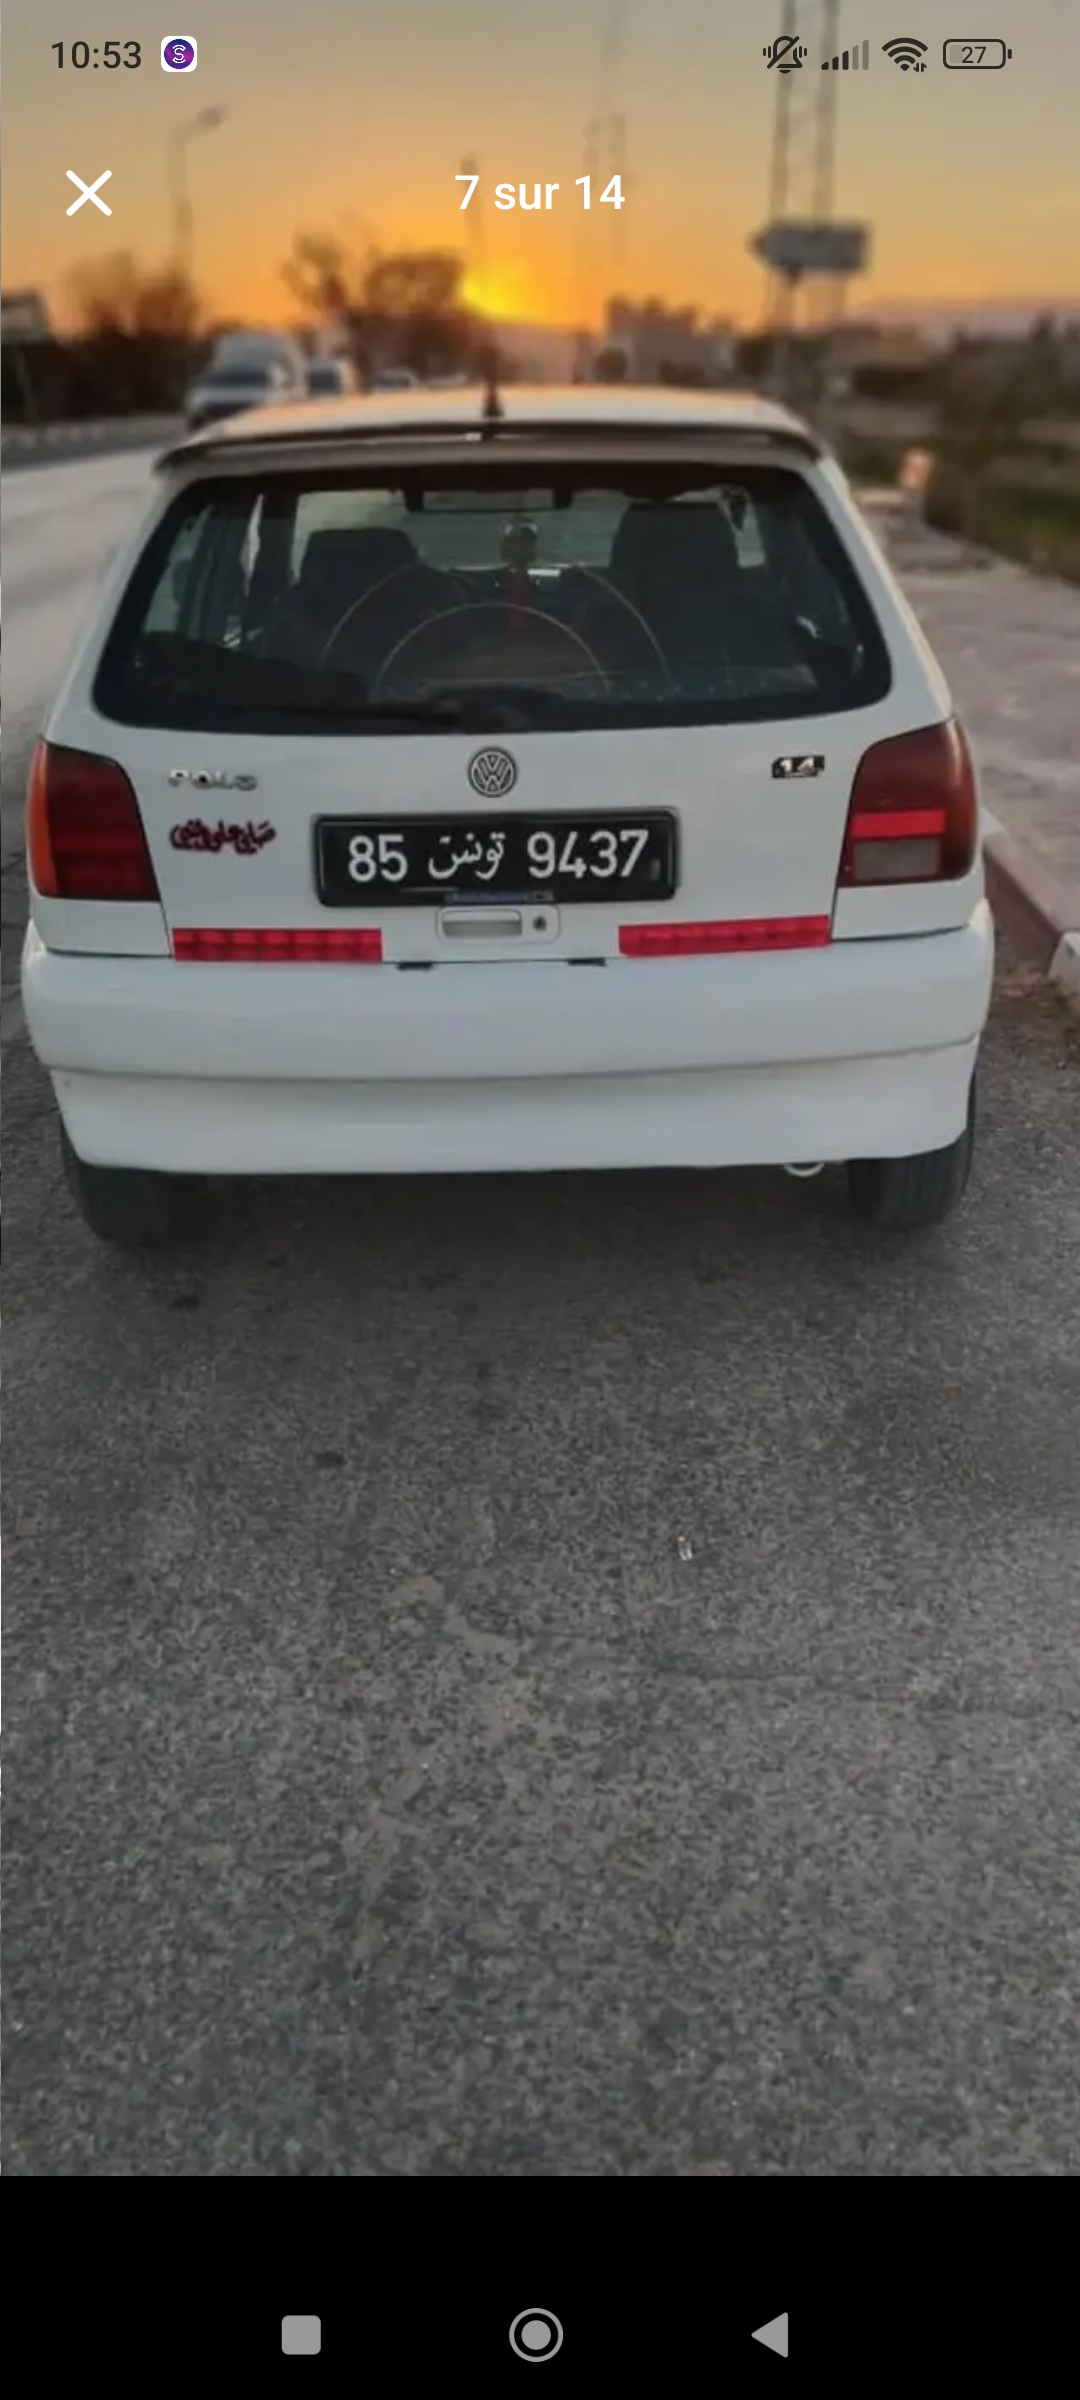plate: (23, 384, 984, 1247)
